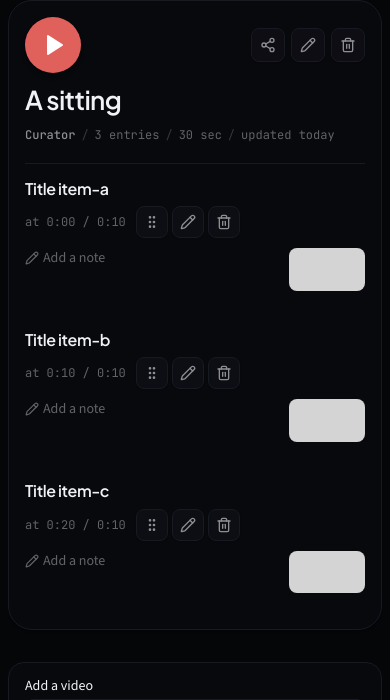
CollectionDetail playback while the collection is edited › offers no closing Play from the top, idle or mid-run
Click the button named "Play the whole collection" at point(53, 45), box [25,17,81,73]
Wait 12002 ms
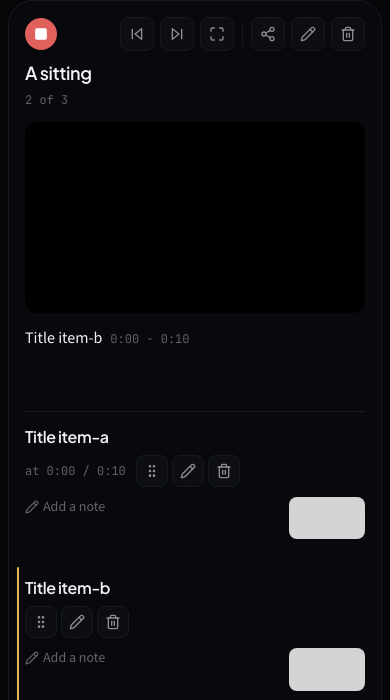
Check: the text "2 of 3" is shown, box [25,92,68,108]
